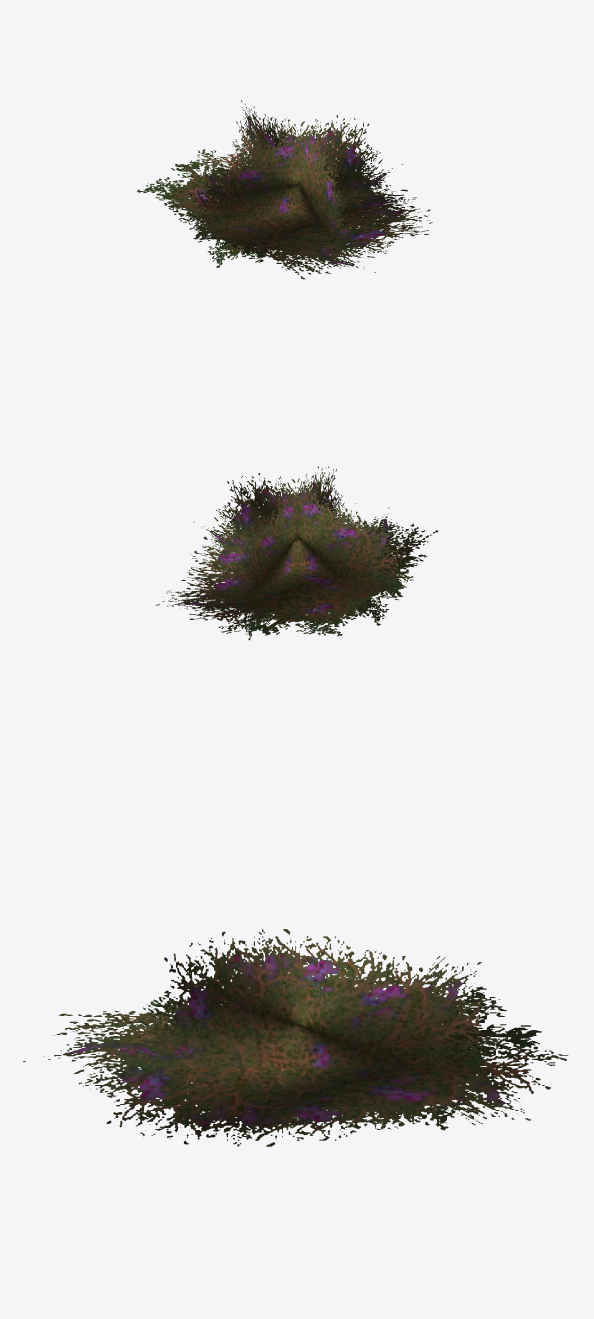
The model's file is shrb_flowerbush_lg_l1.fbx.
3 renders of one model, top to bottom at view 1: azimuth 30°, elevation 25°; view 2: azimuth 150°, elevation 25°; view 3: azimuth 270°, elevation 25°, orthographic. The views are drawn at different scales.
Visible parts, largest first — view 1: mesh_node; view 2: mesh_node; view 3: mesh_node.
Part boxes in pixels (x1,y1,x2,y2): mesh_node: (137,100,432,279); mesh_node: (156,466,437,640); mesh_node: (23,929,568,1146).
Bounding box in the file's own units: 5.83 × 3.42 × 4.58.
Materials: 1 (1 with a texture image).
